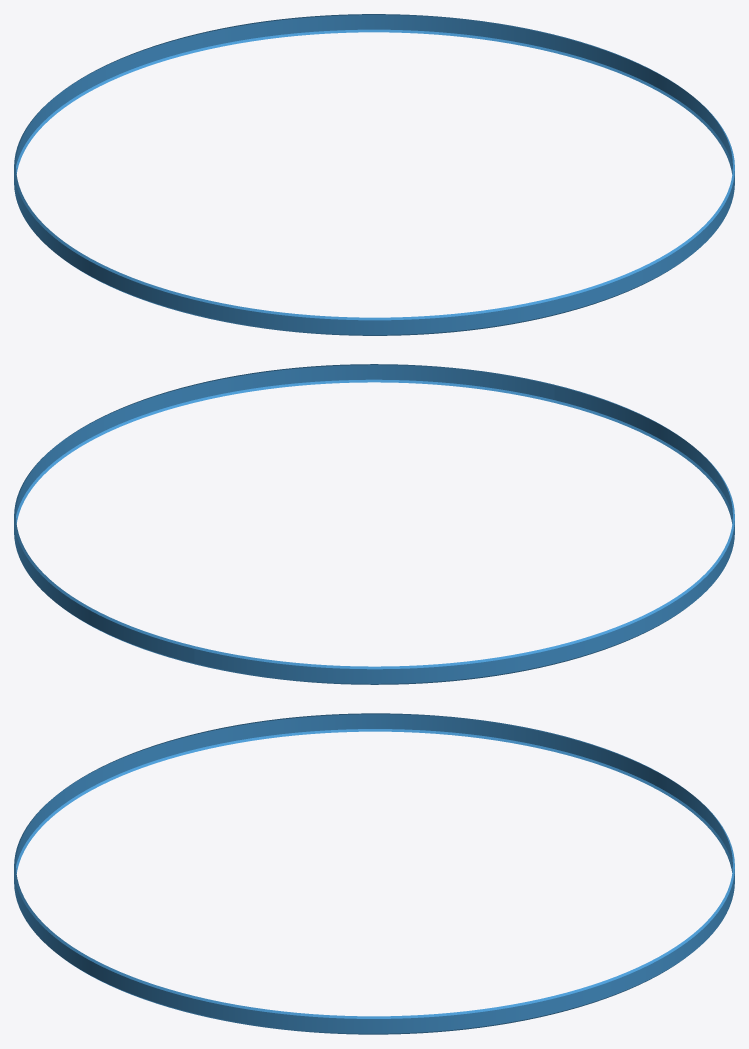
File: single_bracket_ring.dae
The picture shows the model from 3 angles, top to bottom: view 1: azimuth 30°, elevation 25°; view 2: azimuth 150°, elevation 25°; view 3: azimuth 270°, elevation 25°; orthographic projection.
Visible parts, largest first — view 1: ring0; view 2: ring0; view 3: ring0.
Part boxes in pixels (x1,y1,x2,y2): ring0: (14,14,734,335); ring0: (14,364,734,684); ring0: (14,713,734,1034).
Size of the model in its own units: 0.0714 by 0.0714 by 0.00207.
